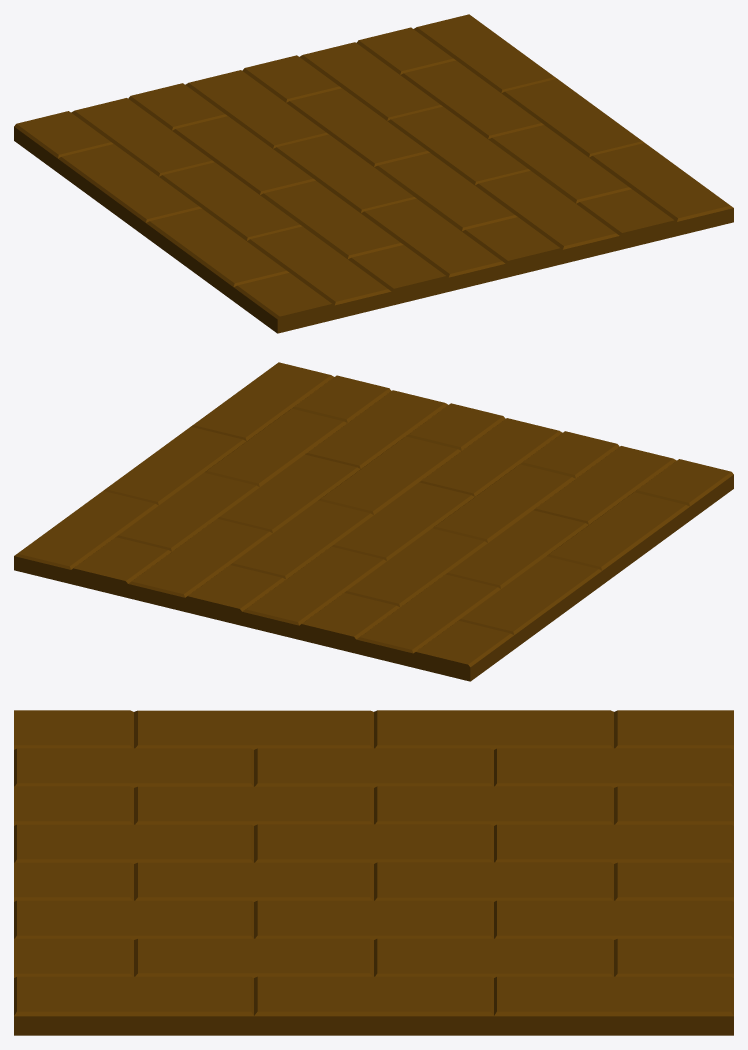
File: R_Floor_Medium.fbx
3 renders of one model, top to bottom at view 1: azimuth 30°, elevation 25°; view 2: azimuth 150°, elevation 25°; view 3: azimuth 270°, elevation 25°, orthographic. The views are drawn at different scales.
Visible parts, largest first — view 1: R_Floor_Medium; view 2: R_Floor_Medium; view 3: R_Floor_Medium.
Part boxes in pixels (<box>): R_Floor_Medium: <box>14,14,733,333</box>; R_Floor_Medium: <box>14,362,733,681</box>; R_Floor_Medium: <box>14,710,733,1035</box>.
Bounding box in the file's own units: 2000 × 2000 × 69.08.
